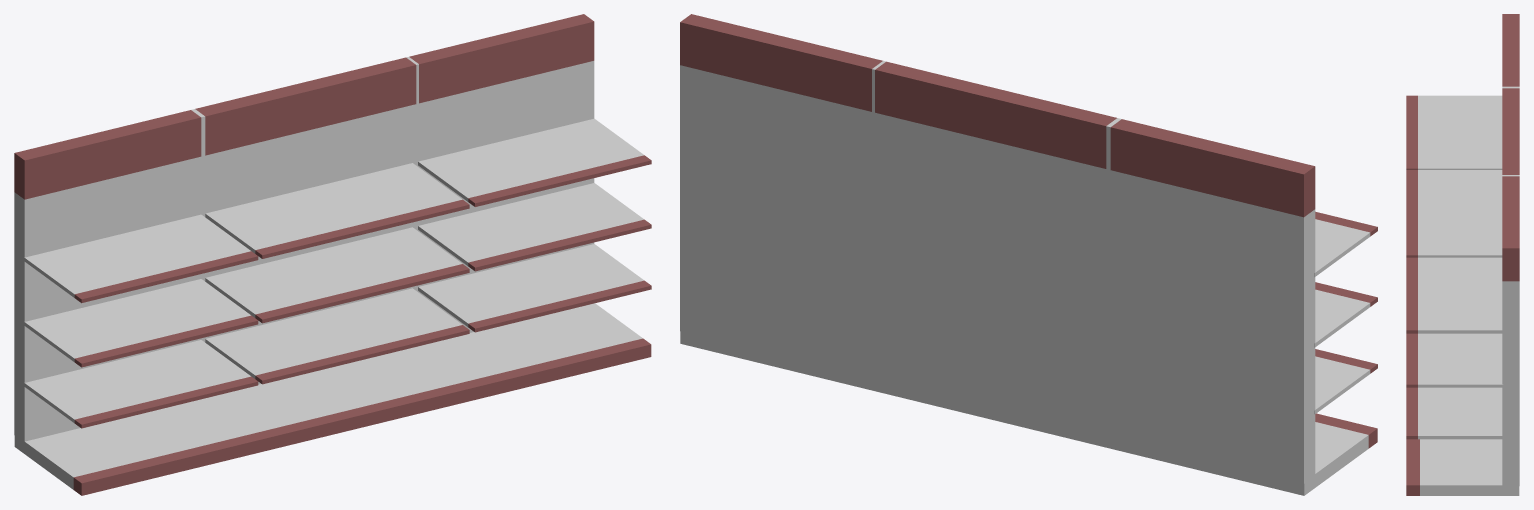
The model's file is Shelf 1.fbx.
3 renders of one model, left to right at view 1: azimuth 30°, elevation 25°; view 2: azimuth 150°, elevation 25°; view 3: azimuth 270°, elevation 25°, orthographic. The views are drawn at different scales.
Visible parts, largest first — view 1: pCube1, pCube7, pCube12, pCube15, pCube9, pCube5, pCube11, pCube14, pCube16, pCube13, pCube10; view 2: pCube1, pCube7, pCube11, pCube5, pCube14; view 3: pCube9, pCube1, pCube10, pCube5, pCube7, pCube13, pCube16.
Part boxes in pixels (box(x1,y1,x2,y2)): pCube1: box(14, 14, 594, 442); pCube7: box(14, 303, 651, 495); pCube12: box(205, 227, 469, 323); pCube15: box(205, 288, 469, 384); pCube9: box(205, 163, 469, 258); pCube5: box(24, 214, 258, 303); pCube11: box(24, 279, 258, 367); pCube14: box(24, 340, 258, 428); pCube16: box(418, 244, 651, 332); pCube13: box(418, 183, 651, 271); pCube10: box(418, 118, 651, 206); pCube1: box(680, 14, 1315, 483); pCube7: box(680, 331, 1377, 495); pCube11: box(1314, 282, 1377, 347); pCube5: box(1314, 211, 1377, 276); pCube14: box(1314, 349, 1377, 413); pCube9: box(1406, 170, 1502, 257); pCube1: box(1502, 14, 1519, 486); pCube10: box(1406, 257, 1503, 333); pCube5: box(1406, 95, 1502, 169); pCube7: box(1406, 439, 1519, 495); pCube13: box(1406, 333, 1503, 387); pCube16: box(1406, 387, 1503, 439).
Size of the model in its own units: 6.28 by 3.09 by 1.28.
